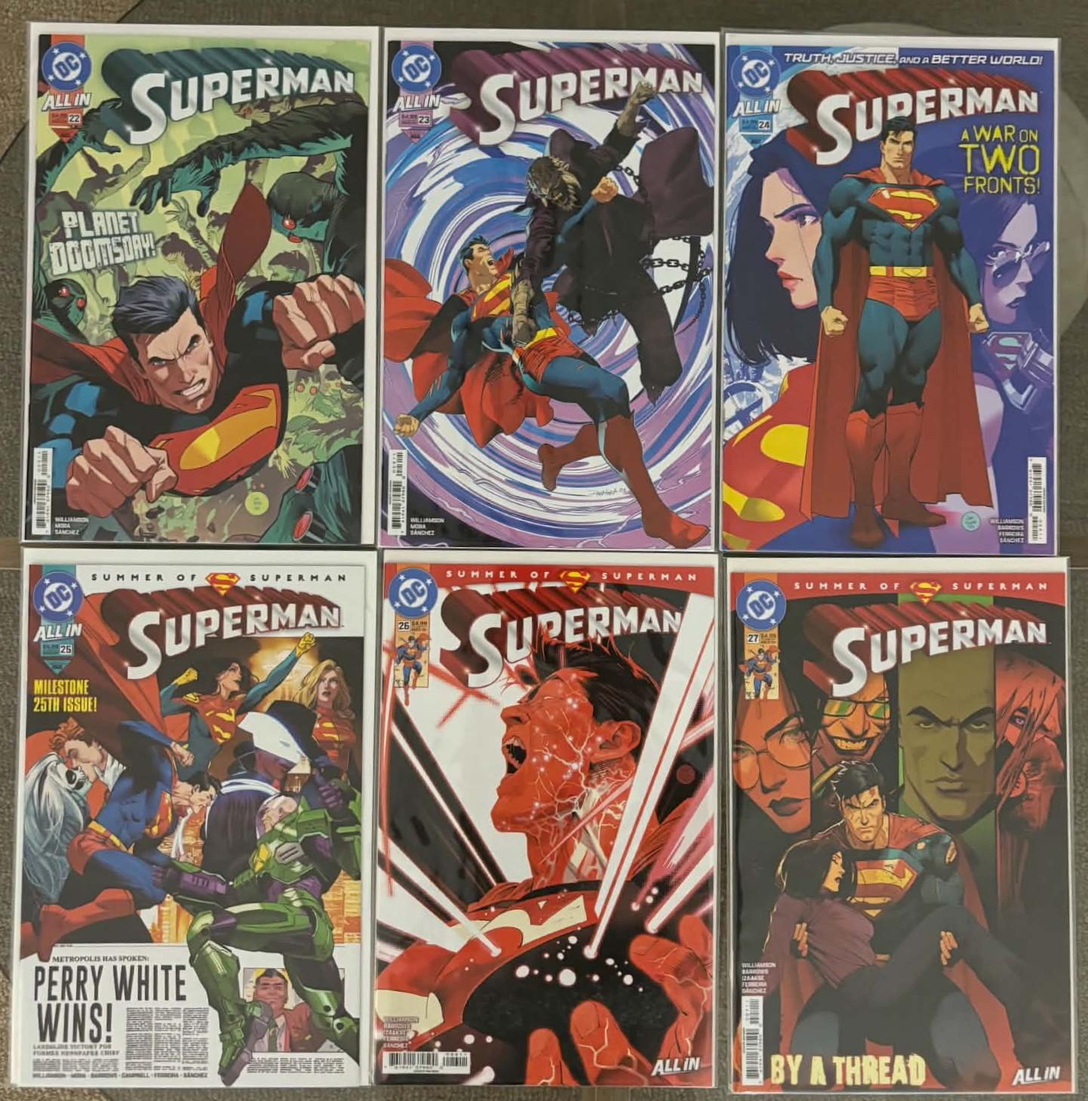comic: (10, 547, 378, 1092), (372, 551, 723, 1092), (22, 22, 381, 547), (727, 556, 1076, 1096), (378, 29, 722, 551), (721, 32, 1059, 555)
